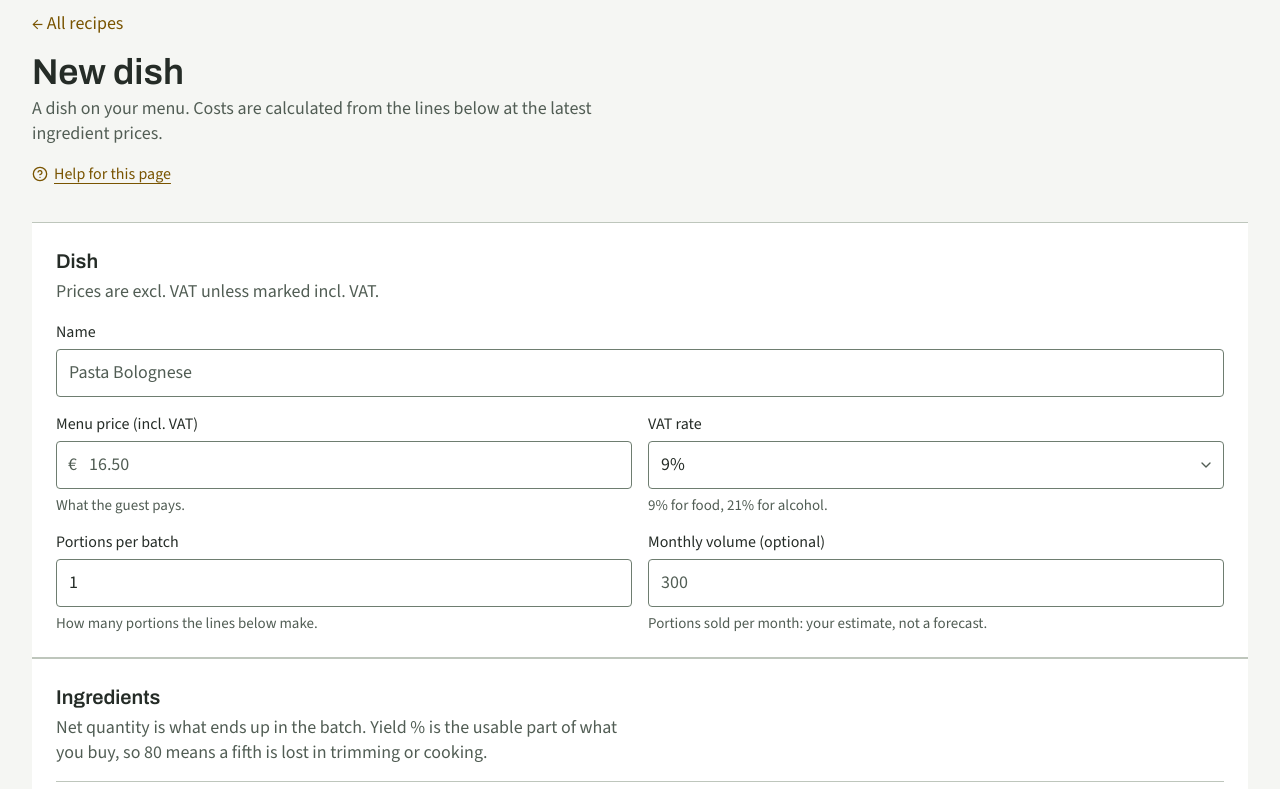
Test case: recipe session drafts › restores an unsaved new dish after opening Help and warns before leaving
(page scrolled)
Expected: the heading "New dish" is shown, 32,52 -> 184,92
Type "Soup special" into the field labelled "Name" at (640, 373), box 56,349 -> 1224,397
(page scrolled)
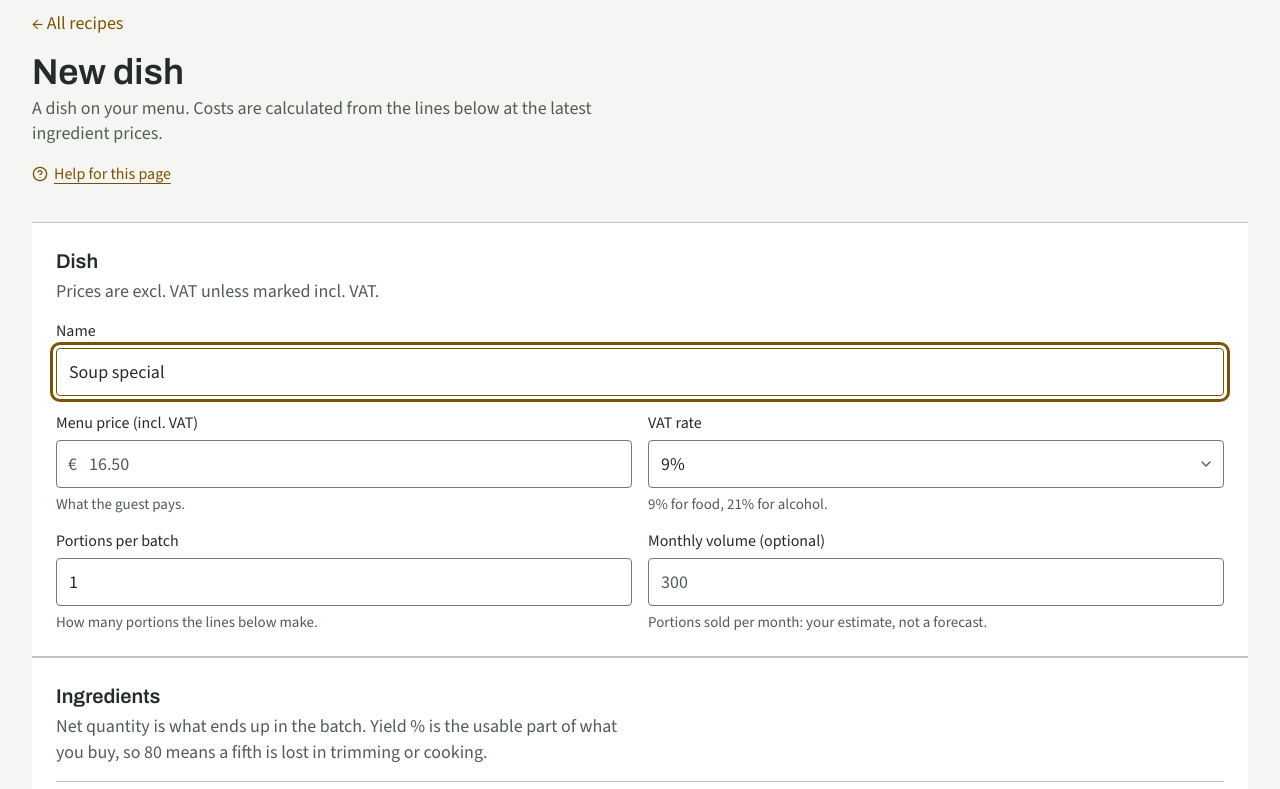
Type "12.50" into the field labelled "Menu price (incl. VAT)" at (344, 464), box 56,440 -> 632,488
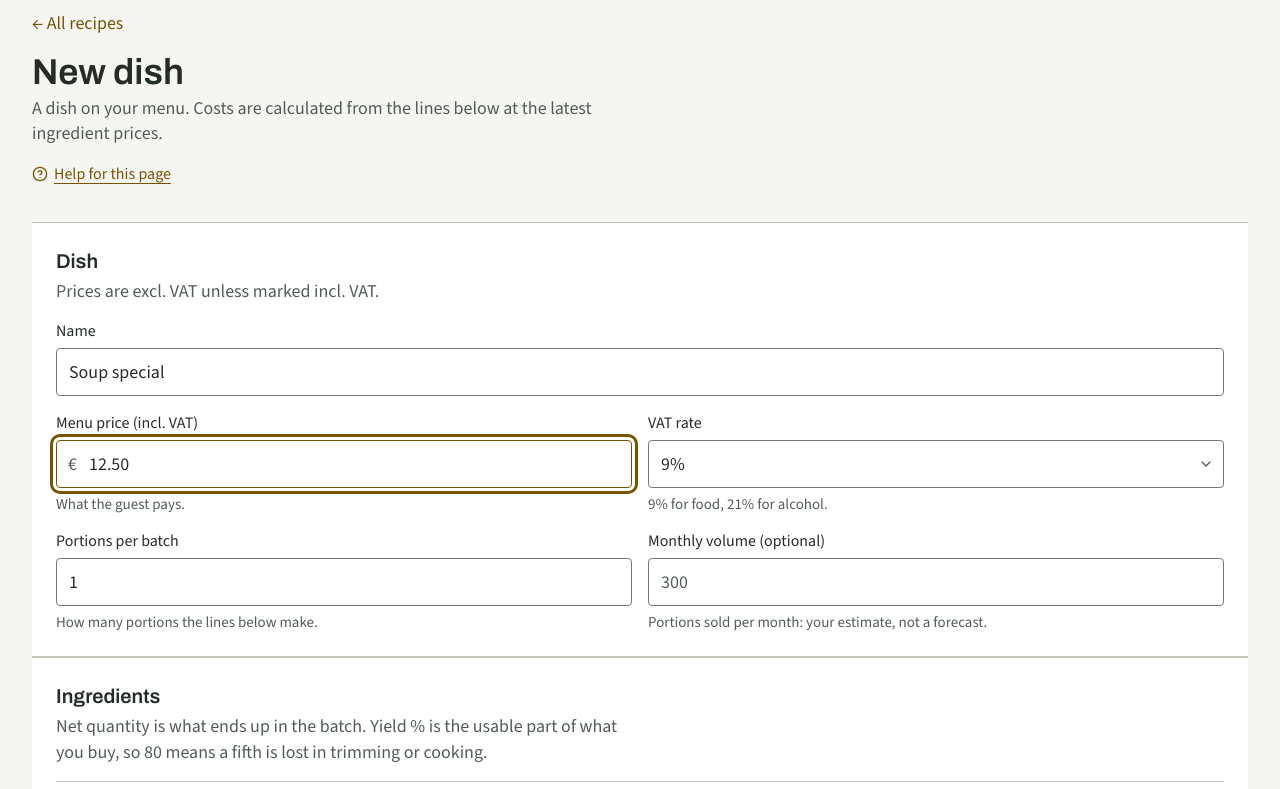
Click the link "Help for this page" at (101, 173), box 32,163 -> 171,184
(page scrolled)
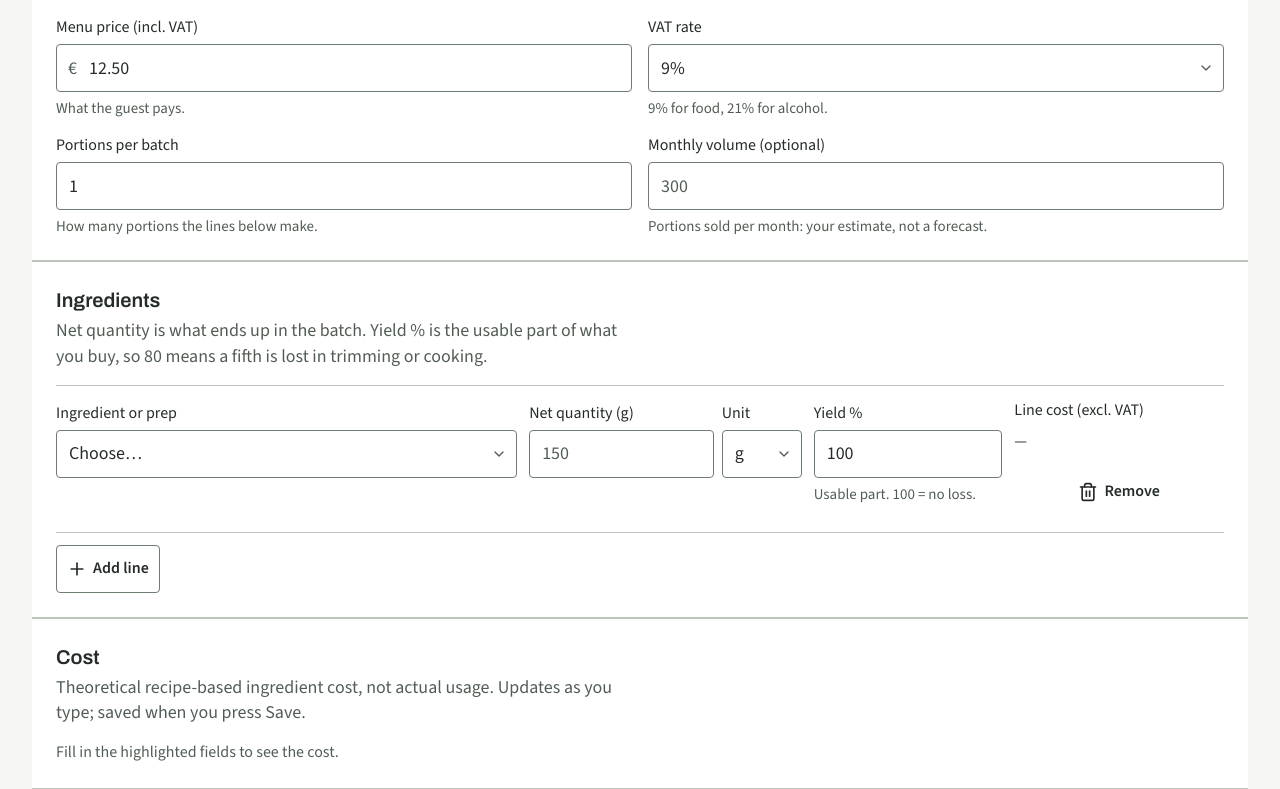
Expected: the field labelled "Menu price (incl. VAT)" holds "12.50", 56,44 -> 632,92
